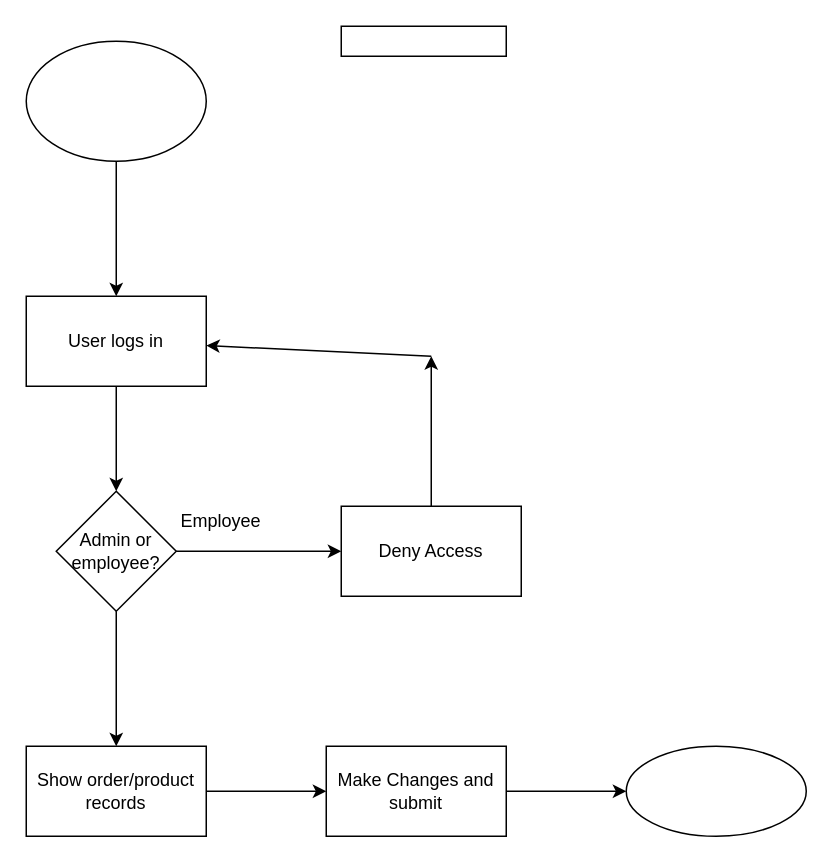
The diagram is 833 pixels wide and 863 high, and some of its shapes have lost their labels. The shapes that lost their labels are listed below. From the top down, each one's centre as x and y in pixels, then its label:
At point (423, 40): "Edit an Order".
At point (115, 100): "System opens".
At point (715, 790): "Log out".
